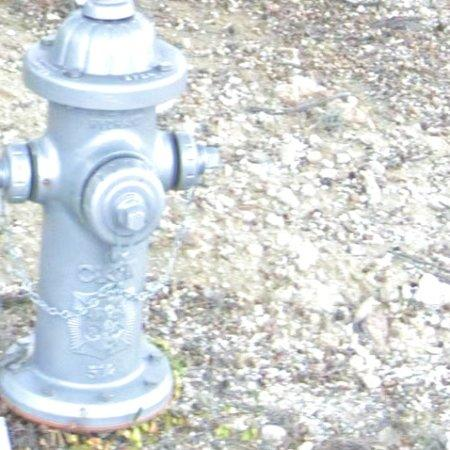a fire hydrant: (0, 0, 219, 432)
